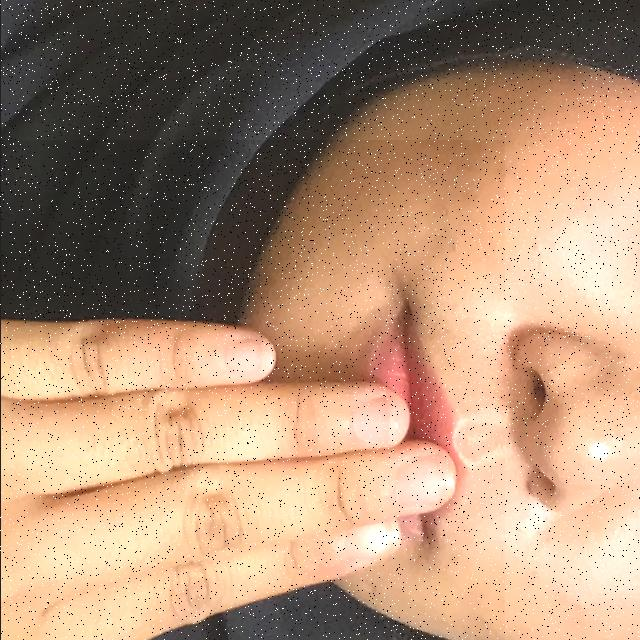ganteng: (0, 140, 504, 640)
